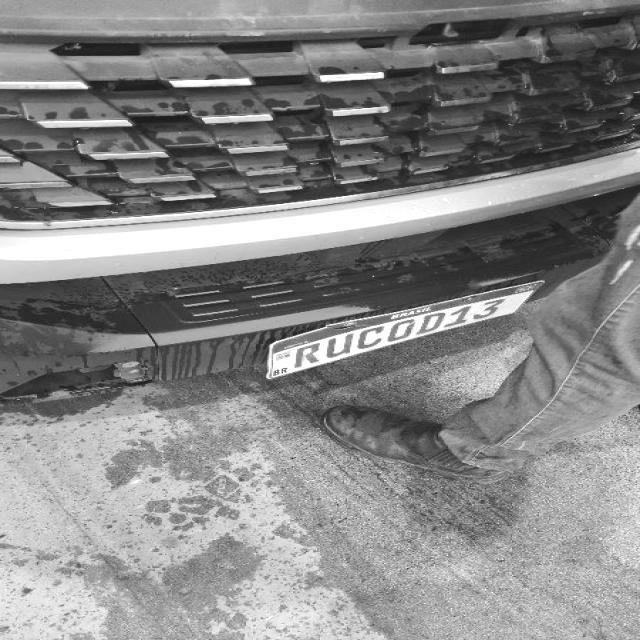placa_mercosul: (269, 277, 545, 379)
